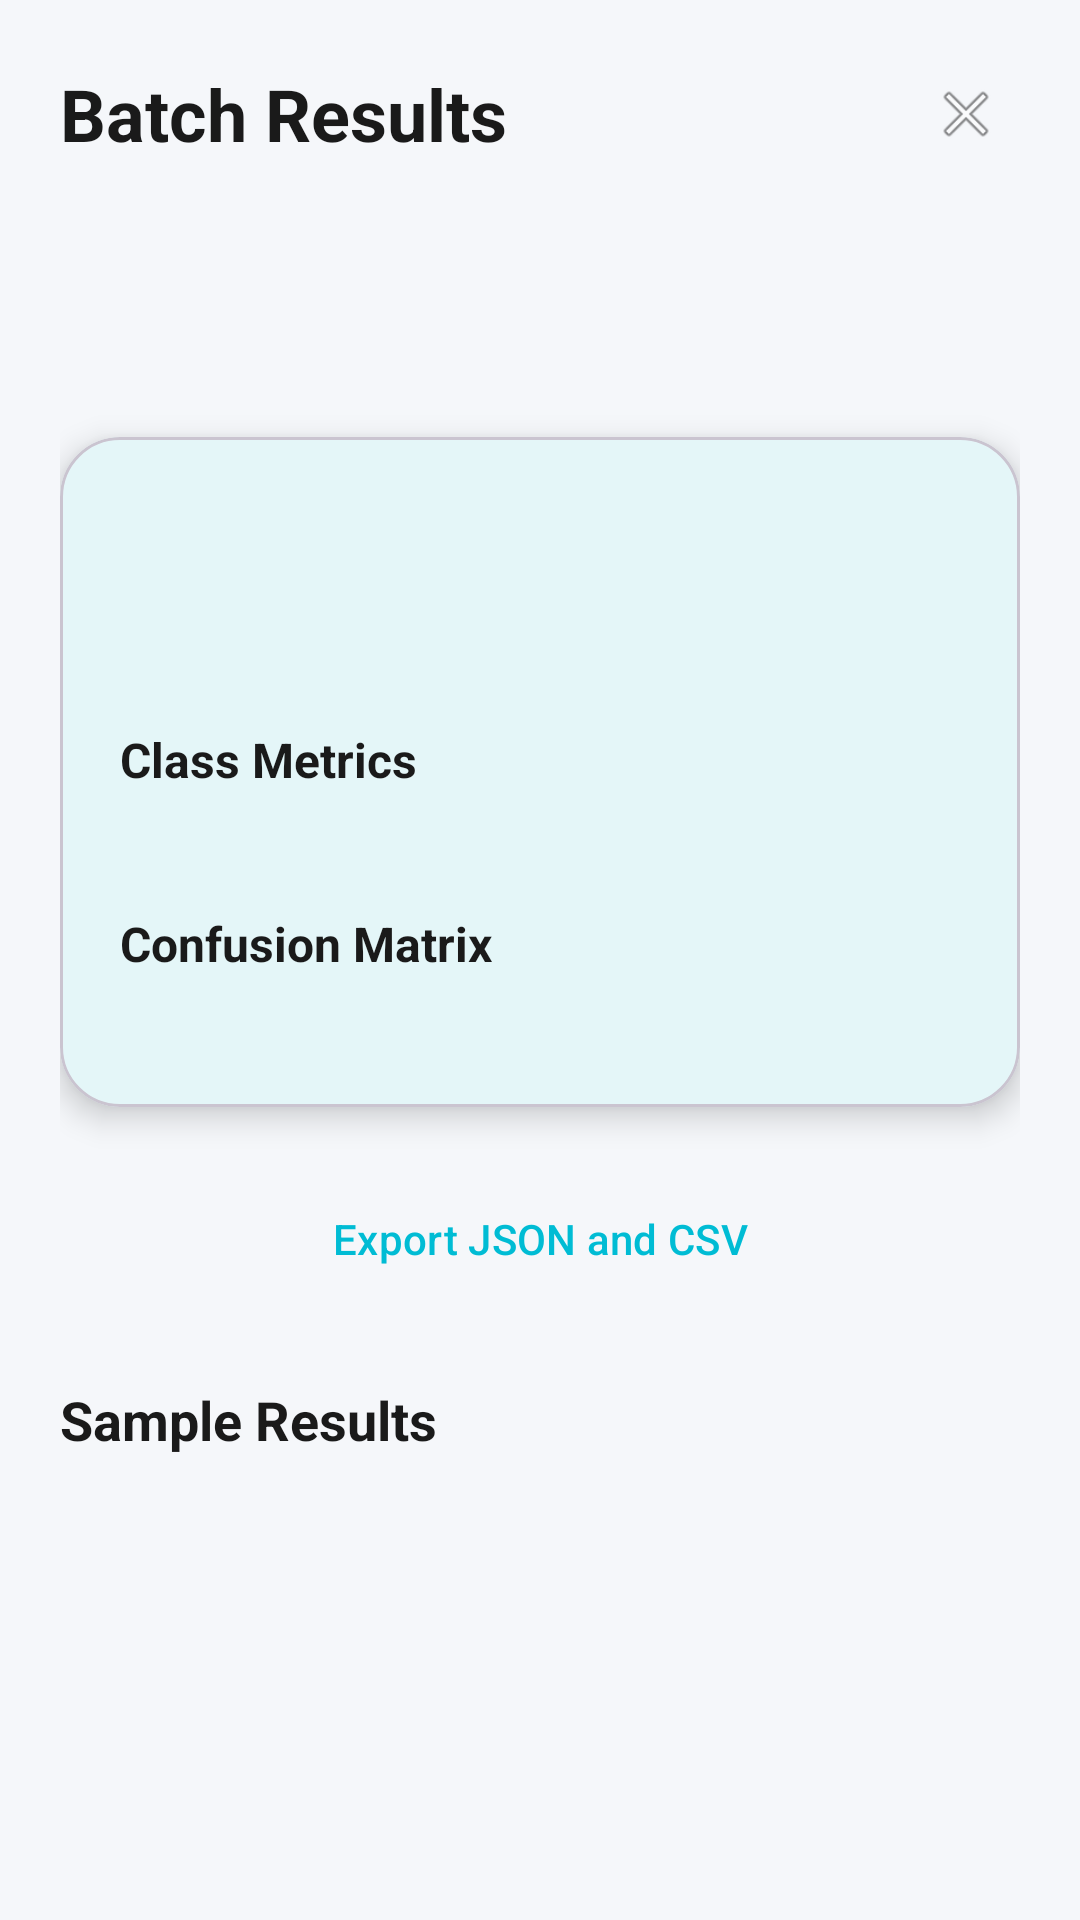

Icons on this 1080 x 1920 Android screen, each with its box as (x1, y1, x2, y2):
关闭: (943, 91, 989, 137)
